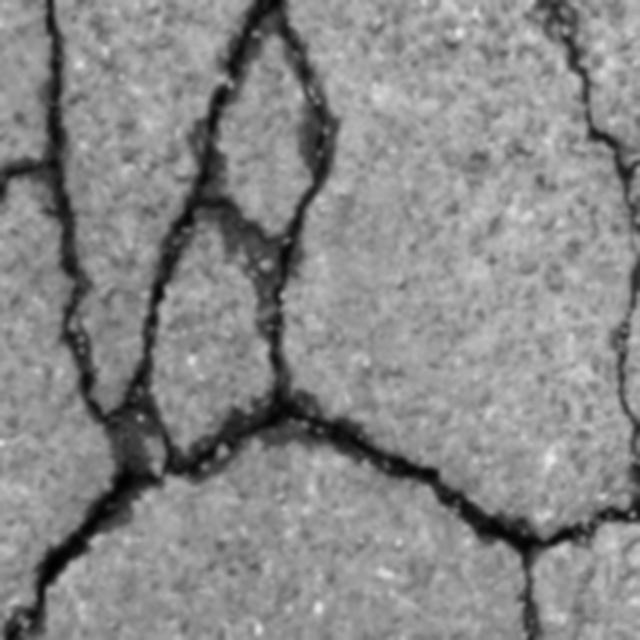SurfaceCrack: (487, 2, 640, 635)
